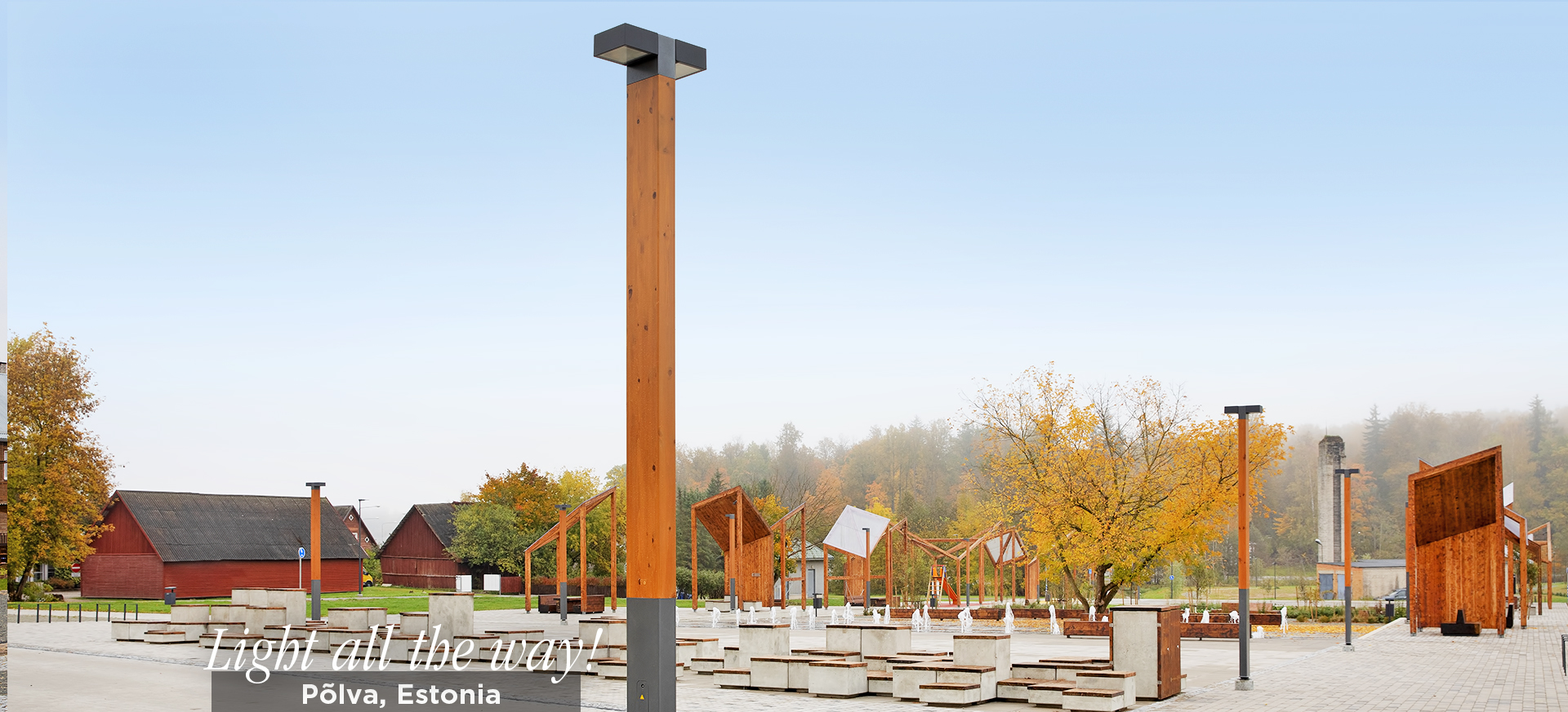light_pole: (606, 23, 698, 712)
